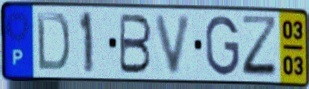1: (76, 10, 97, 76)
B: (117, 12, 154, 76)
D: (35, 11, 72, 74)
G: (203, 14, 241, 79)
V: (153, 13, 195, 78)
Z: (240, 14, 280, 80)
